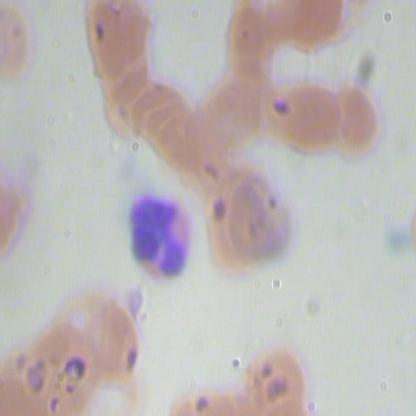RBC: (228, 169, 302, 266), (265, 76, 335, 155), (242, 335, 311, 415), (192, 75, 261, 155), (84, 301, 153, 381), (83, 1, 151, 81), (322, 87, 393, 162)
WBC: (125, 193, 192, 285)
